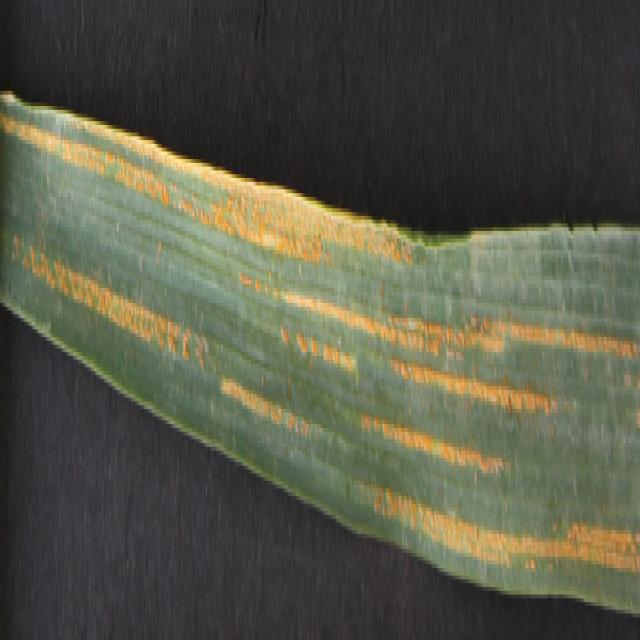leaf rust: (1, 22, 640, 590)
